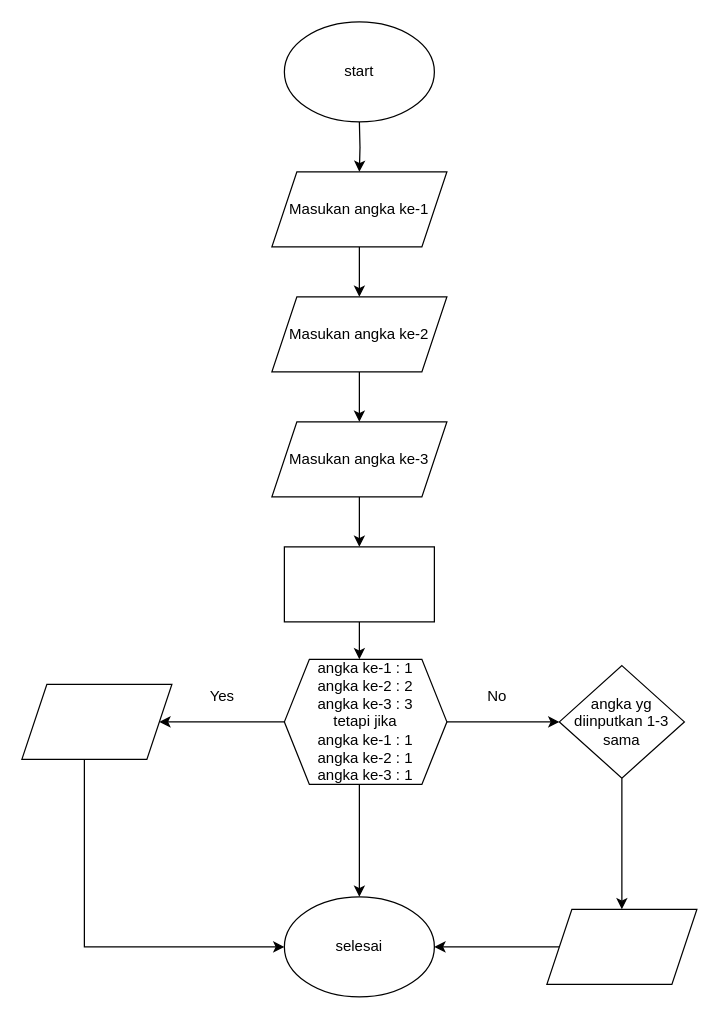
Image size: 719x1019. Some labels were removed from this diagram. Here are the shapes that lost their labels. From the top down, the centre of each, then its label:
At [358,584]: "angka ke-1 : 1 angka ke-2 : 2 angka ke-3 : 3".
At [96,721]: "bilangan angka 3 lebih besar".
At [621,946]: "angka 1-3 sama besar".
